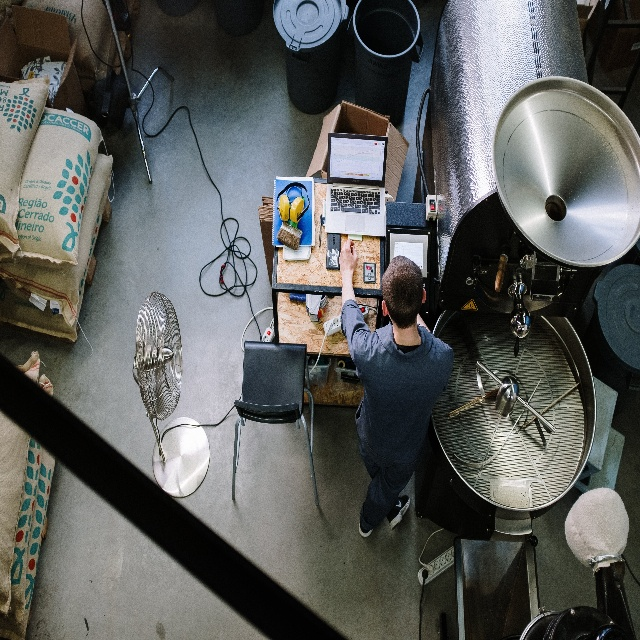Sin_guantes: (338, 237, 359, 276)
